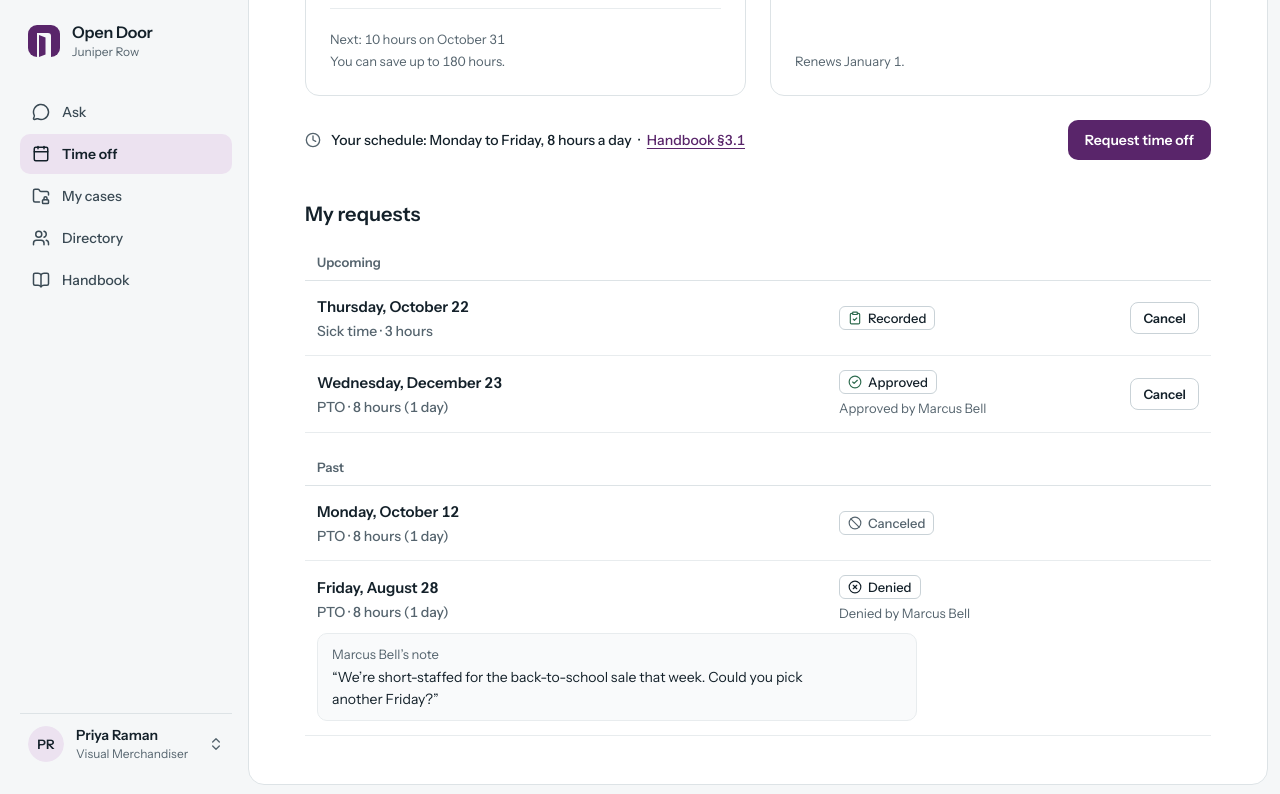
Time off: canceling a request › asks first, with focus on Keep it, and Keep it puts focus back on the row’s Cancel
The image size is (1280, 794).
(page scrolled)
Expected: the heading "Upcoming" is shown, [305, 252, 1211, 281]
What coordinates should you click on to do the following:
click the button with aria-label "Cancel PTO on Wednesday, December 23"
I would click on:
 (1165, 394)
Its box is [1130, 378, 1199, 410].
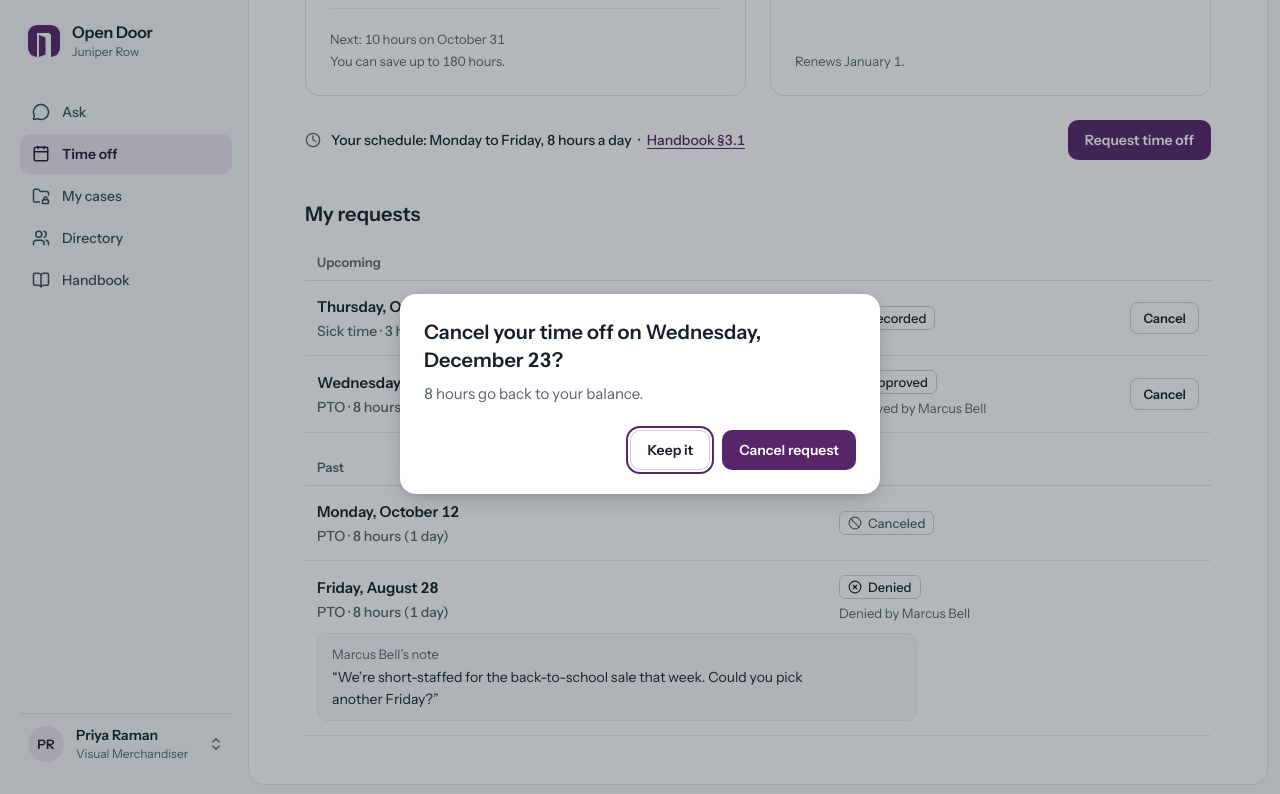
Expected: the text "8 hours go back to your balance." is shown, [424, 384, 643, 403]
What coordinates should you click on to do the following:
click the button "Keep it"
I would click on:
 (670, 450)
Its box is [630, 430, 710, 470].
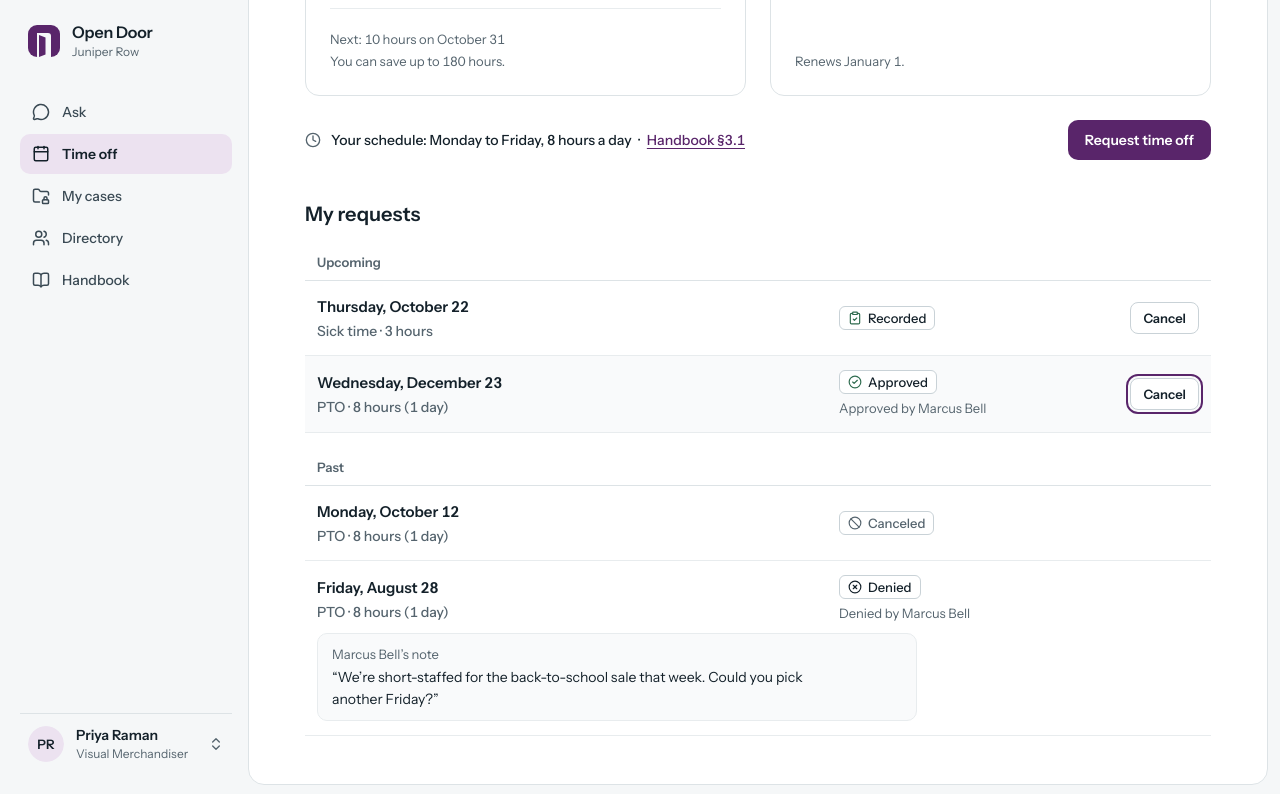
Expected: the dialog is gone
